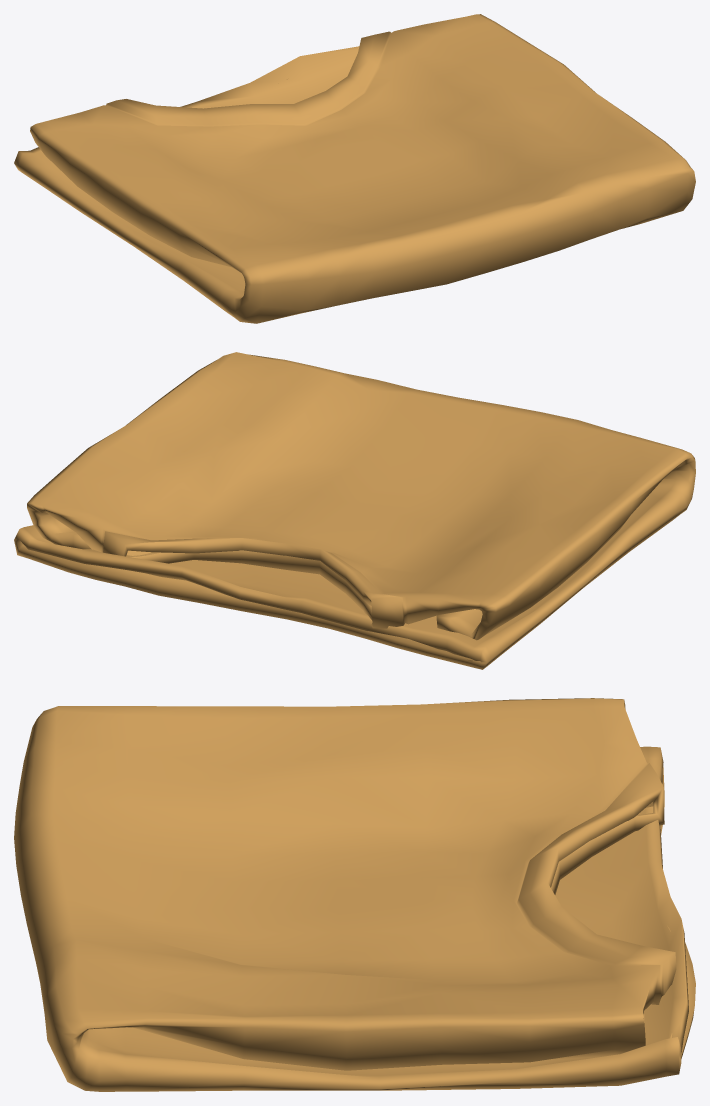
Rendered from Folded_T_Shirt08.fbx.
3 views of the same model, one above another, from view 1: azimuth 30°, elevation 25°; view 2: azimuth 150°, elevation 25°; view 3: azimuth 270°, elevation 25° (orthographic). The views are drawn at different scales.
Visible parts, largest first — view 1: Folded_T_Shirt08; view 2: Folded_T_Shirt08; view 3: Folded_T_Shirt08.
Part boxes in pixels (x1=…): Folded_T_Shirt08: x1=14, y1=14, x2=695, y2=323; Folded_T_Shirt08: x1=14, y1=352, x2=695, y2=669; Folded_T_Shirt08: x1=14, y1=698, x2=695, y2=1091.
Size of the model in its own units: 36.95 by 4.2 by 32.8.
